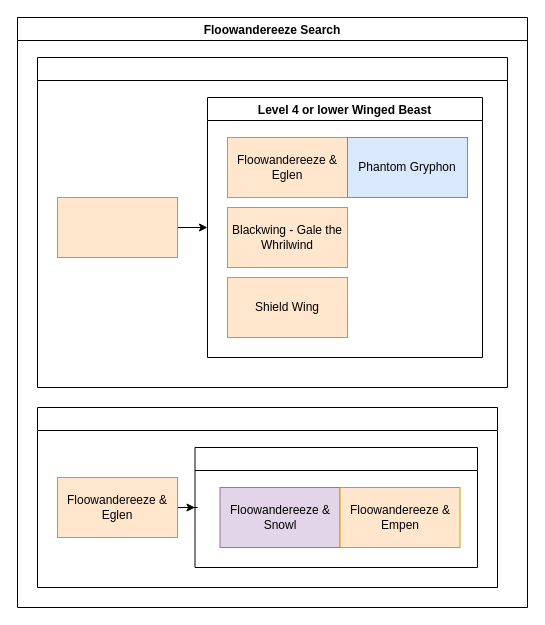
Image size: 545x625. Some labels were removed from this diagram. Here are the shapes that lost their labels. From the top down, the box of each, then its label:
(56, 196, 178, 258): Floowandereeze & Robina
(36, 56, 508, 388): Robina Search
(36, 406, 498, 588): Eglen Search
(194, 446, 478, 568): Level 7 or higher Winged Beast
